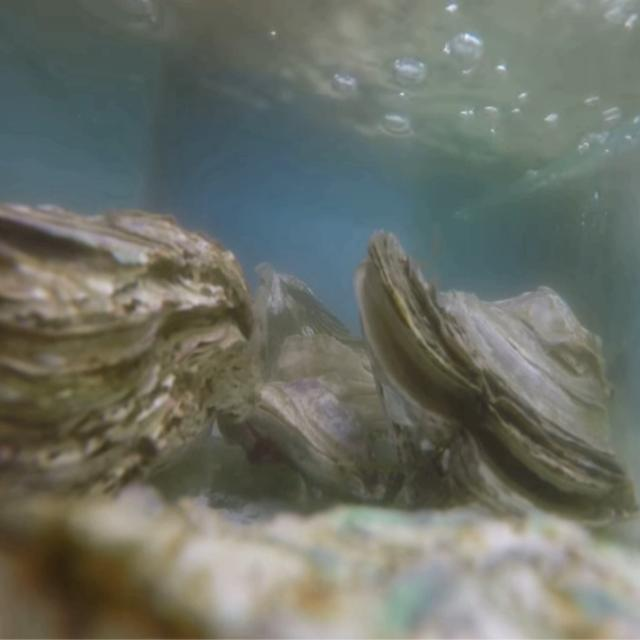Oyster-Closed: (0, 202, 256, 528), (256, 333, 417, 510)
Oyster-Indeterminate: (0, 490, 640, 640)
Oyster-Open: (353, 229, 640, 540)
